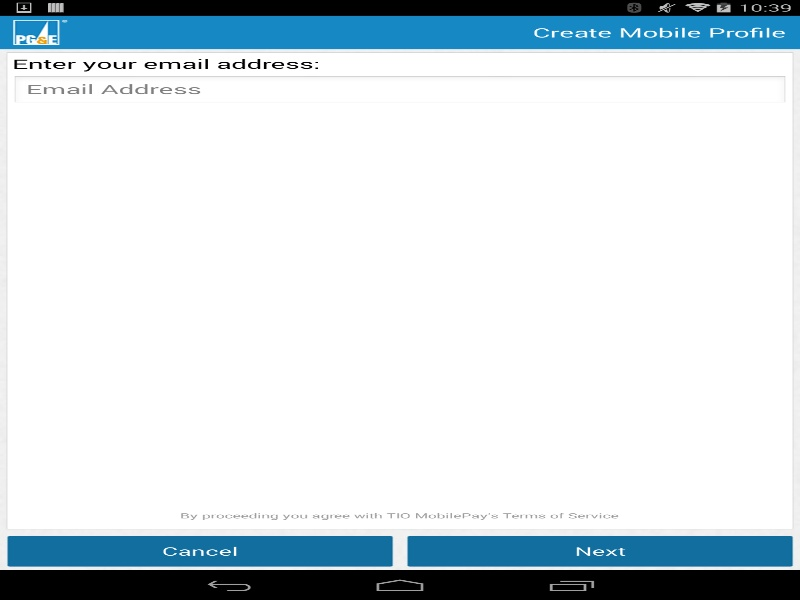Button: (6, 535, 393, 566), (406, 535, 793, 566)
Input: (12, 75, 788, 105)
